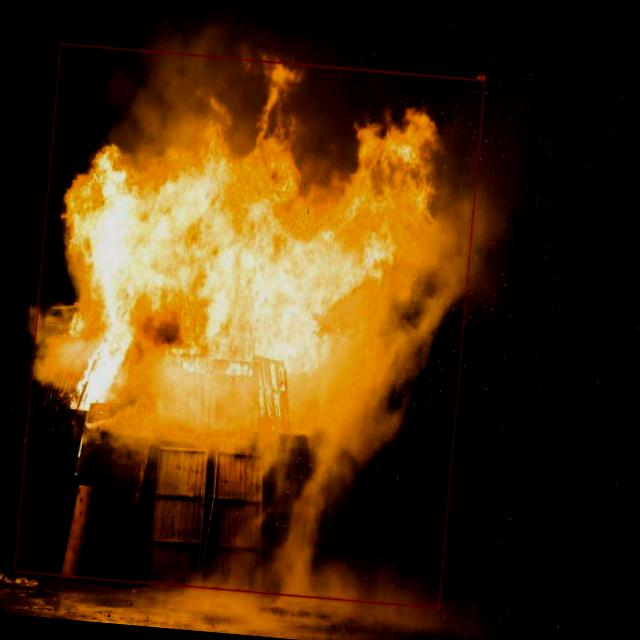fire: (14, 42, 486, 608)
